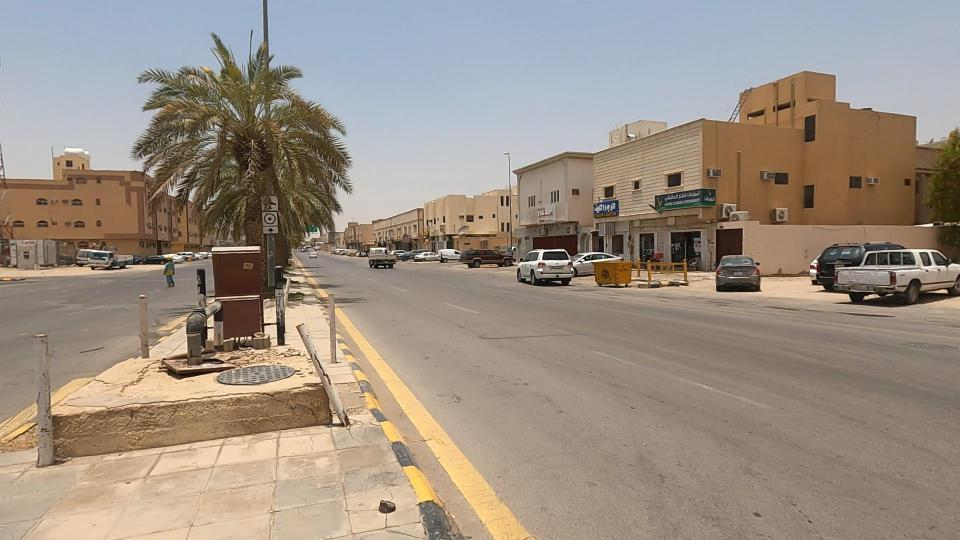FADED_SIGNAGE: (239, 267, 379, 461)
